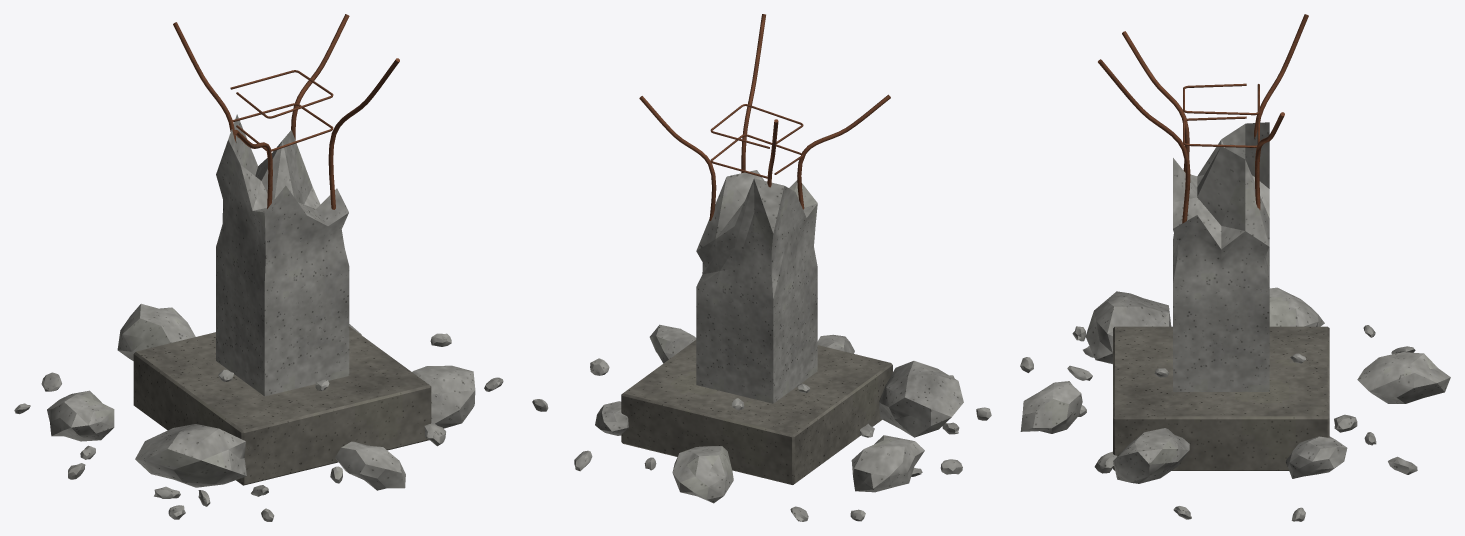
Rendered from broken-concrete-column.glb.
3 views of the same model, side by side, from view 1: azimuth 30°, elevation 25°; view 2: azimuth 150°, elevation 25°; view 3: azimuth 270°, elevation 25° (orthographic). The views are drawn at different scales.
Visible parts, largest first — view 1: Broken_Concrete_Column; view 2: Broken_Concrete_Column; view 3: Broken_Concrete_Column.
Part boxes in pixels (x1,y1,x2,y2): Broken_Concrete_Column: [14, 14, 503, 521]; Broken_Concrete_Column: [532, 14, 991, 521]; Broken_Concrete_Column: [1020, 14, 1450, 521].
Bounding box in the file's own units: 2.02 × 1.8 × 1.79.
3 materials, 3 textured.
